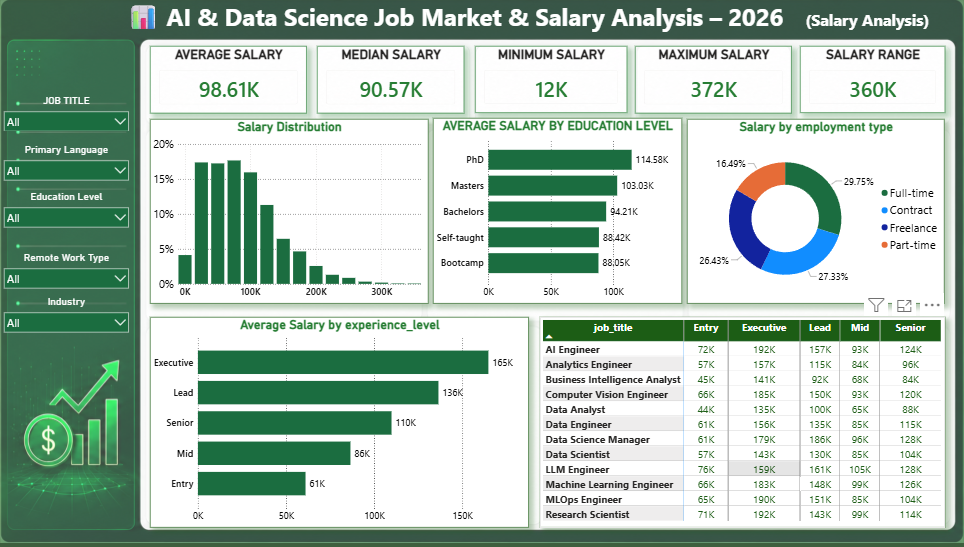

The page's visual inventory and layout, read from the dashboard file:
{"tool":"powerbi","page":{"name":"Salary Analysis","canvas":[1935,1102],"ordinal":2},"visuals":[{"type":"cardVisual","title":"AVERAGE SALARY","fields":{"Data":["AI_Jobs_2026.Average Salary"]},"box":[301.7,95.7,314.2,135.2],"z":0},{"type":"cardVisual","title":"MEDIAN SALARY","fields":{"Data":["AI_Jobs_2026.Median Salary"]},"box":[636.7,95.7,295.5,135.2],"z":1000},{"type":"cardVisual","title":"MINIMUM SALARY","fields":{"Data":["AI_Jobs_2026.Minimum Salary"]},"box":[953.7,96.2,304.6,134.2],"z":2000},{"type":"cardVisual","title":"MAXIMUM SALARY","fields":{"Data":["AI_Jobs_2026.maximum salary"]},"box":[1273.4,95.7,314.2,135.2],"z":3000},{"type":"cardVisual","title":"SALARY RANGE","fields":{"Data":["AI_Jobs_2026.Salary Range"]},"box":[1604.9,96.2,290.5,134.2],"z":4000},{"type":"clusteredColumnChart","title":"Salary Distribution","fields":{"Category":["AI_Jobs_2026.salary_usd (bins)"],"Y":["Sum(AI_Jobs_2026.salary_usd)"]},"box":[301.7,243.4,557.6,370.4],"z":5000},{"type":"barChart","fields":{"Category":["AI_Jobs_2026.experience_level"],"Y":["AI_Jobs_2026.Average Salary"]},"box":[301.9,638.9,759.2,422.3],"z":6000},{"type":"barChart","title":"AVERAGE SALARY BY EDUCATION  LEVEL","fields":{"Category":["AI_Jobs_2026.education_level"],"Y":["AI_Jobs_2026.Average Salary"]},"box":[868.6,240.7,498.9,372],"z":7000},{"type":"donutChart","title":"Salary by employment type","fields":{"Y":["AI_Jobs_2026.Average Salary"],"Category":["AI_Jobs_2026.employment_type"]},"box":[1378.4,242.9,516.4,369.8],"z":8000},{"type":"pivotTable","fields":{"Rows":["AI_Jobs_2026.job_title"],"Columns":["AI_Jobs_2026.experience_level"],"Values":["Avg(AI_Jobs_2026.salary_usd)"]},"box":[1083.1,638.9,811.7,422.3],"z":9000},{"type":"slicer","title":"JOB TITLE","fields":{"Values":["AI_Jobs_2026.job_title"]},"box":[0,194.4,270.5,72.1],"z":10000},{"type":"slicer","title":"Education Level","fields":{"Values":["AI_Jobs_2026.education_level"]},"box":[0,386.7,270.5,82.1],"z":11000},{"type":"slicer","title":"Remote Work Type","fields":{"Values":["AI_Jobs_2026.Remote Work Type"]},"box":[0,508.9,270.5,82.1],"z":12000},{"type":"slicer","title":"Primary Language","fields":{"Values":["AI_Jobs_2026.primary_language"]},"box":[0,292.5,270.5,94.2],"z":13000},{"type":"slicer","title":"Industry","fields":{"Values":["AI_Jobs_2026.industry"]},"box":[0,597.1,270.5,84.2],"z":14000},{"type":"textbox","box":[0,0,1935.1,74.9],"z":15000}]}

Visuals, with their boxes in screenshot pixels (x1, y1, x2, y2), scaled from the page's 1935x1102 canvas onto the 964x547 screenshot:
"AVERAGE SALARY" cardVisual: 150 48 307 115
"MEDIAN SALARY" cardVisual: 317 48 464 115
"MINIMUM SALARY" cardVisual: 475 48 627 114
"MAXIMUM SALARY" cardVisual: 634 48 791 115
"SALARY RANGE" cardVisual: 800 48 944 114
"Salary Distribution" clusteredColumnChart: 150 121 428 305
barChart - AI_Jobs_2026.experience_level x AI_Jobs_2026.Average Salary: 150 317 529 527
"AVERAGE SALARY BY EDUCATION  LEVEL" barChart: 433 119 681 304
"Salary by employment type" donutChart: 687 121 944 304
pivotTable - AI_Jobs_2026.job_title x AI_Jobs_2026.experience_level: 540 317 944 527
"JOB TITLE" slicer: 0 96 135 132
"Education Level" slicer: 0 192 135 233
"Remote Work Type" slicer: 0 253 135 293
"Primary Language" slicer: 0 145 135 192
"Industry" slicer: 0 296 135 338
textbox: 0 0 963 37
